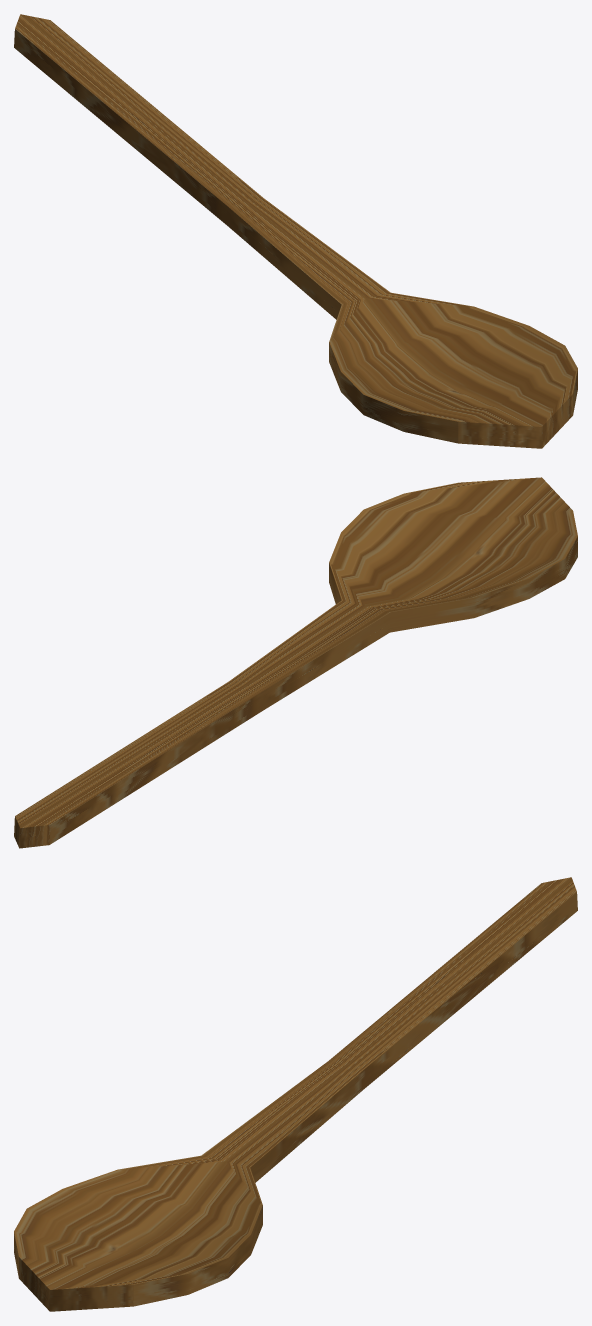
Rendered from Spon.fbx.
The picture shows the model from 3 angles, top to bottom: view 1: azimuth 30°, elevation 25°; view 2: azimuth 150°, elevation 25°; view 3: azimuth 330°, elevation 25°; orthographic projection.
Visible parts, largest first — view 1: pCube1; view 2: pCube1; view 3: pCube1.
Boxes of the visible parts, x1,y1,x2,y2 form: pCube1: (14, 14, 577, 448); pCube1: (14, 477, 577, 848); pCube1: (14, 877, 577, 1311).
Bounding box in the file's own units: 4.11 × 1.52 × 18.44.
